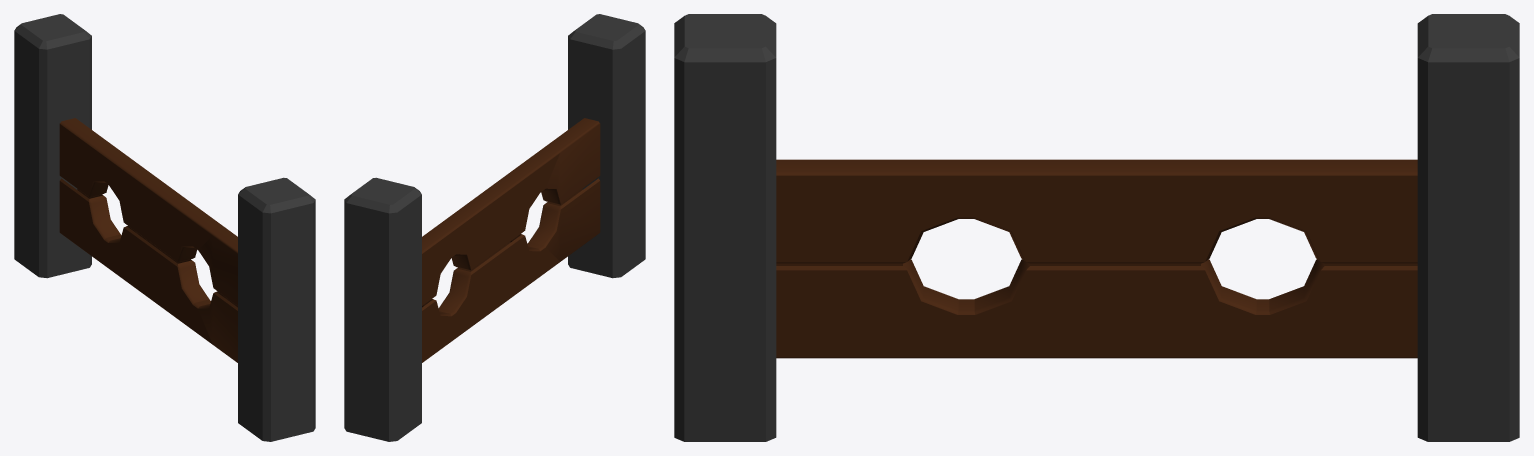
Rendered from SM_Stock.fbx.
The picture shows the model from 3 angles, left to right: view 1: azimuth 30°, elevation 25°; view 2: azimuth 150°, elevation 25°; view 3: azimuth 270°, elevation 25°; orthographic projection. The views are drawn at different scales.
Visible parts, largest first — view 1: Stock; view 2: Stock; view 3: Stock.
Boxes of the visible parts, x1,y1,x2,y2 form: Stock: (14, 14, 315, 441); Stock: (344, 14, 645, 441); Stock: (674, 14, 1519, 441).
Size of the model in its own units: 1 by 4.21 by 8.29.
